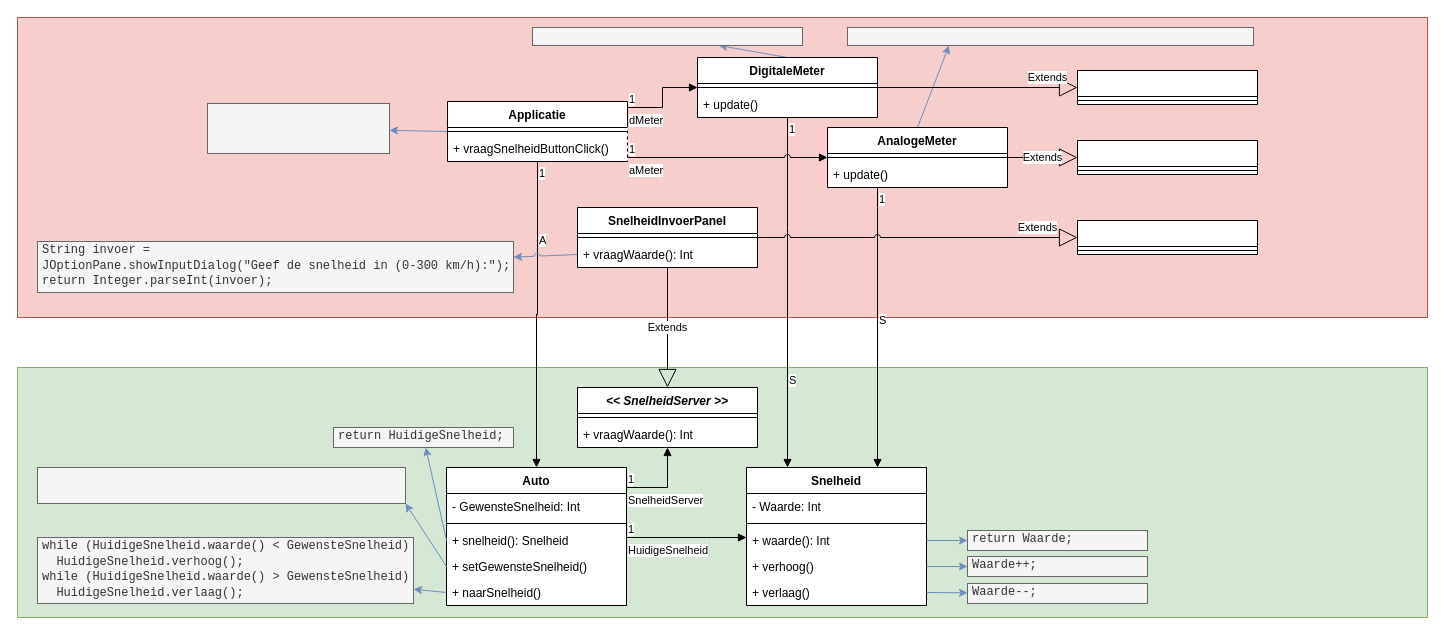
This 1445x635 diagram has some shape labels left out. The shapes that lost their labels are listed below. From the top down, each one's centre as x and y in pixels, then its label:
At pixel 667 36: "setText(String.valueOf(S.waarde()));".
At pixel 1050 36: "setValue((int) ((100.0 / MAXSNELHEID) * (S.waarde())));".
At pixel 1167 87: "JLabel".
At pixel 298 128: "A.setGewensteSnelheid(); digitaleMeter.update(); analogeMeter.update();".
At pixel 1167 157: "JProgressBar".
At pixel 1167 237: "JPanel".
At pixel 221 485: "GewensteSnelheid = SnelheidServer.vraagSnelheid(); naarSnelheid();".
